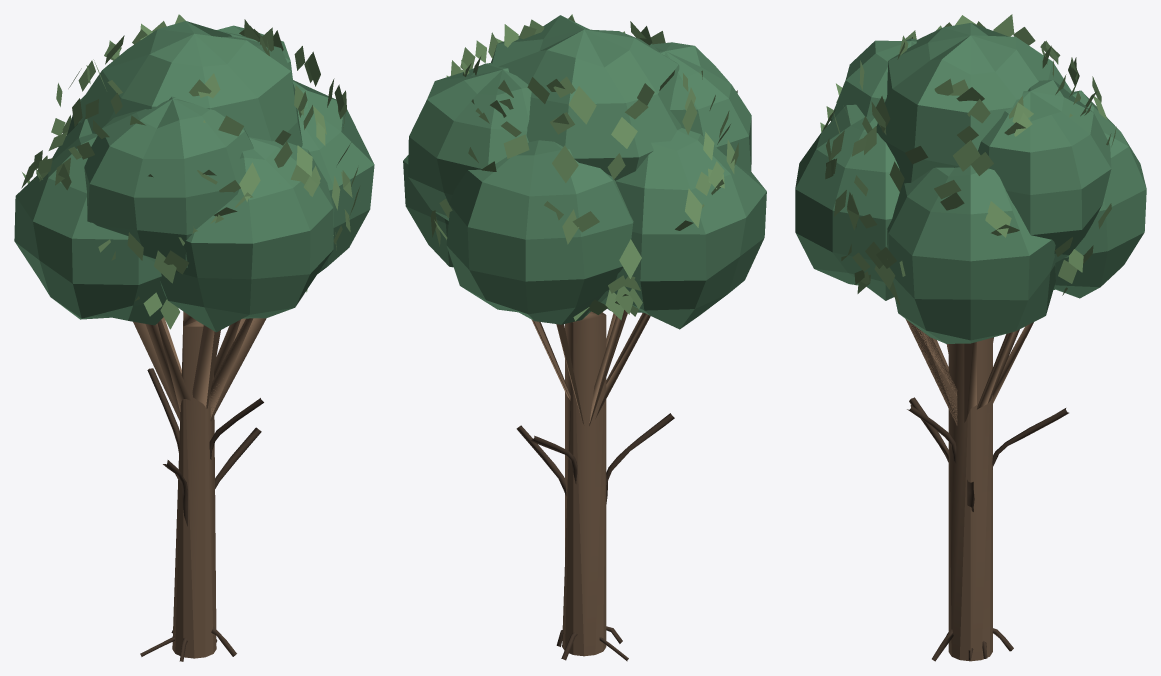
File: tree.glb
The picture shows the model from 3 angles, left to right: view 1: azimuth 30°, elevation 25°; view 2: azimuth 150°, elevation 25°; view 3: azimuth 270°, elevation 25°; orthographic projection.
Parts seen in each view (by area): view 1: Foliage, Wood, Foliage detail, Bark_And_Branch_Detail; view 2: Foliage, Wood, Foliage detail, Bark_And_Branch_Detail; view 3: Foliage, Wood, Foliage detail, Bark_And_Branch_Detail.
Part boxes in pixels (box(x1,y1,x2,y2)): Foliage: box(14, 21, 374, 332); Wood: box(133, 311, 266, 658); Foliage detail: box(21, 14, 359, 329); Bark_And_Branch_Detail: box(140, 368, 263, 661); Foliage: box(403, 15, 766, 329); Wood: box(531, 310, 650, 656); Foliage detail: box(430, 14, 738, 321); Bark_And_Branch_Detail: box(516, 413, 674, 661); Foliage: box(795, 23, 1146, 343); Wood: box(905, 319, 1033, 661); Foliage detail: box(820, 14, 1116, 305); Bark_And_Branch_Detail: box(907, 397, 1068, 661).
Size of the model in its own units: 4.31 by 8 by 4.13.
